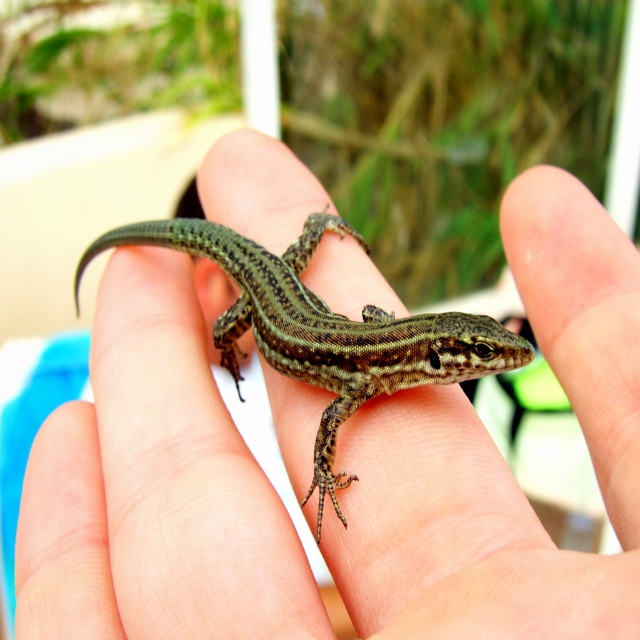Lizard: (78, 216, 540, 541)
